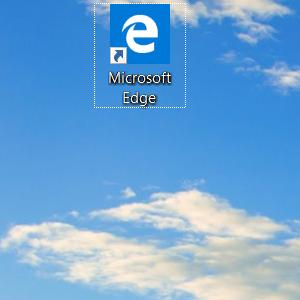edge: (109, 4, 170, 64)
